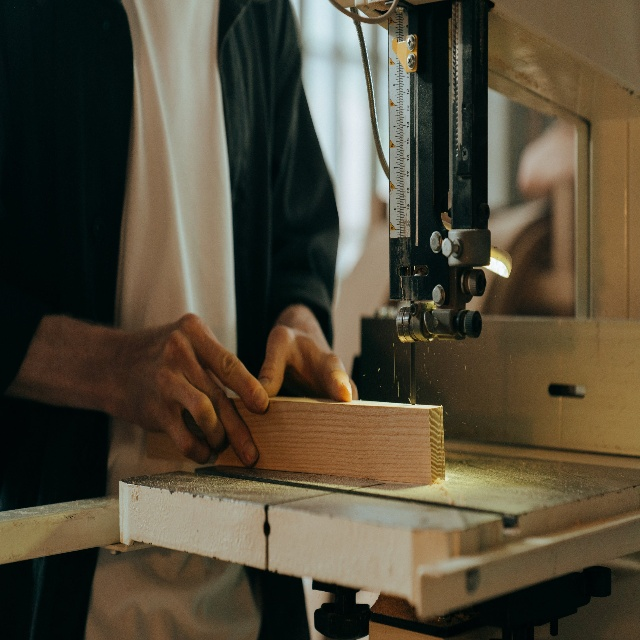Sin_guantes: (127, 311, 270, 469), (257, 302, 359, 406)
